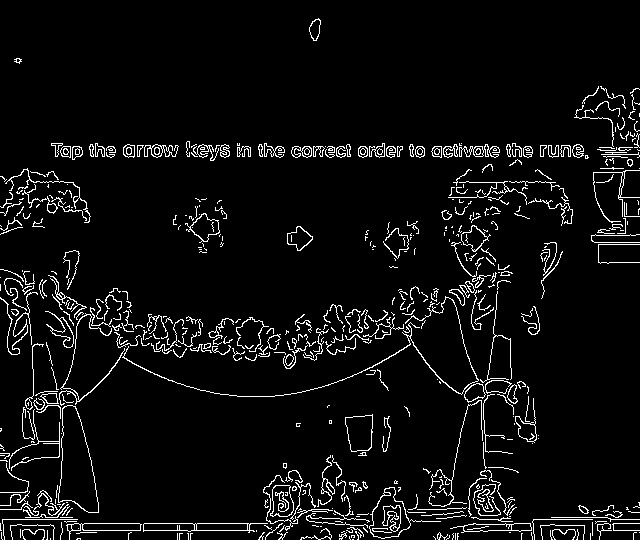left: (182, 210, 226, 248), (378, 223, 416, 263)
right: (283, 219, 319, 257), (458, 220, 492, 256)
